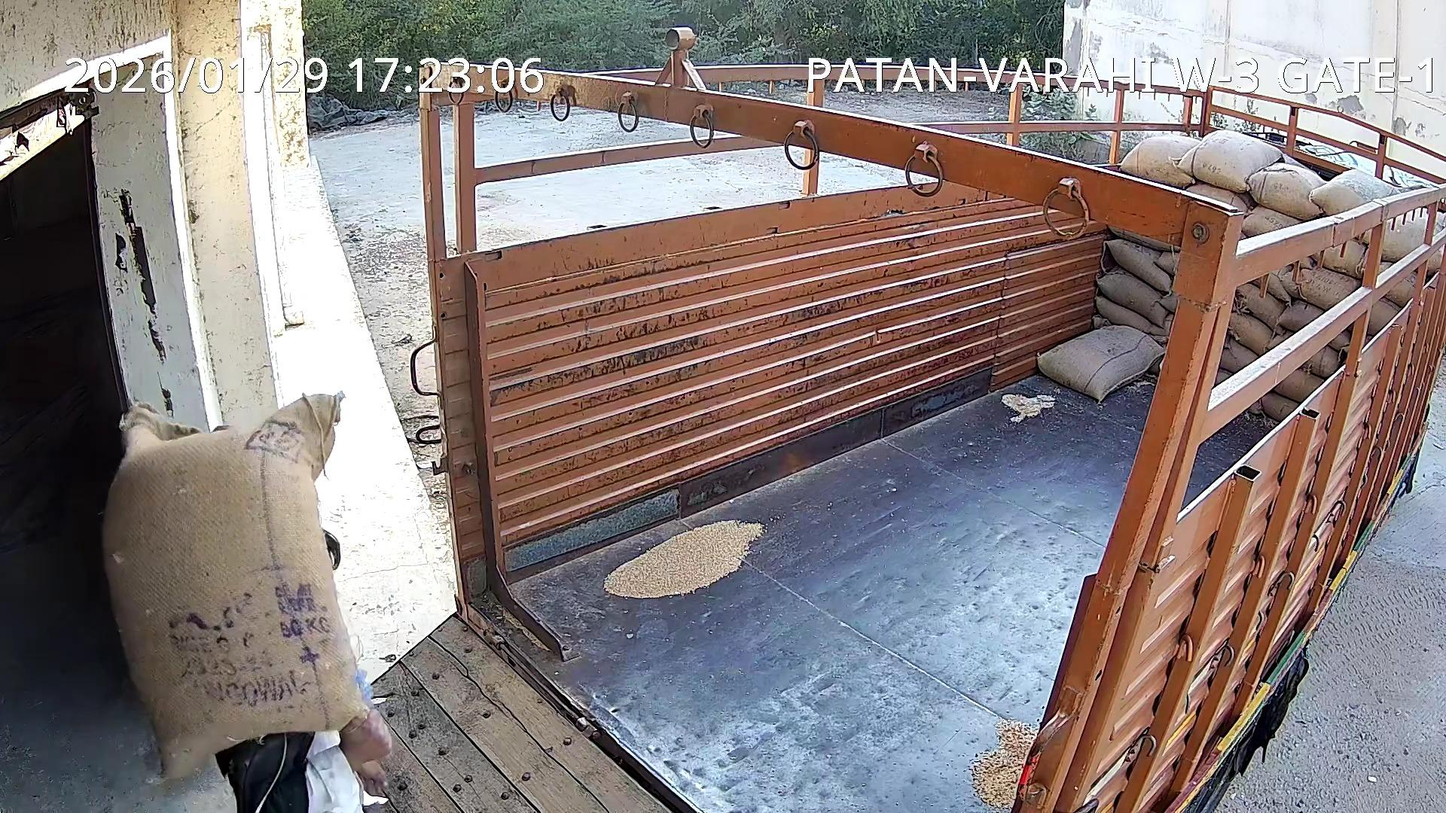Sack: (102, 396, 363, 778)
